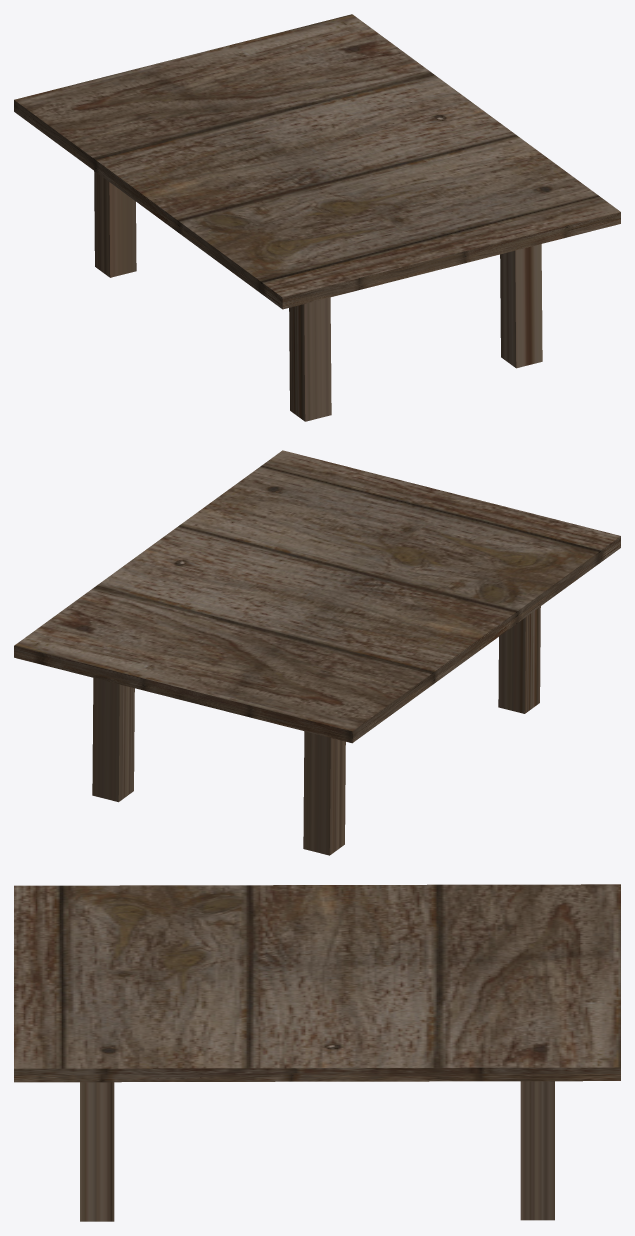
Rendered from tableObj.glb.
3 renders of one model, top to bottom at view 1: azimuth 30°, elevation 25°; view 2: azimuth 150°, elevation 25°; view 3: azimuth 270°, elevation 25°, orthographic. The views are drawn at different scales.
Parts seen in each view (by area): view 1: Cubo_0; view 2: Cubo_0; view 3: Cubo_0.
Part boxes in pixels (bbox=[...]): Cubo_0: bbox=[14, 14, 620, 421]; Cubo_0: bbox=[14, 450, 620, 855]; Cubo_0: bbox=[14, 884, 620, 1221].
Bounding box in the file's own units: 4.85 × 2.23 × 6.67.
1 material, 1 textured.
